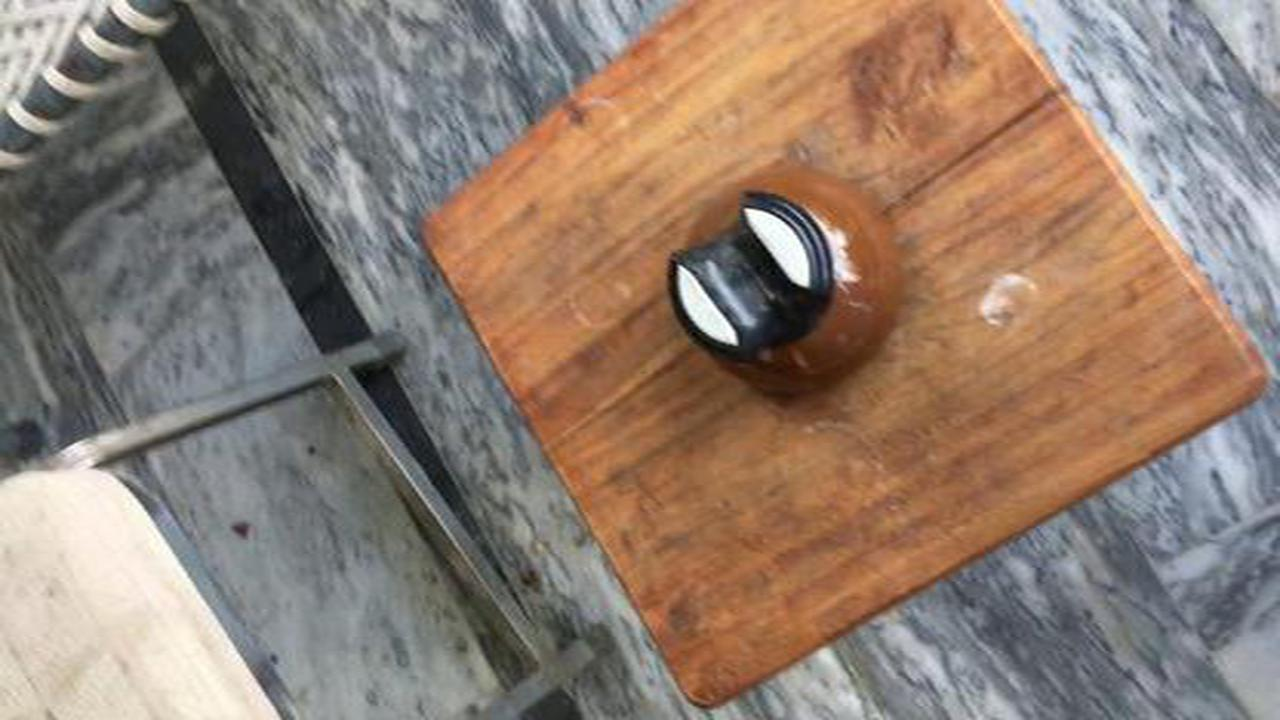insulator_pin: (650, 161, 921, 418)
